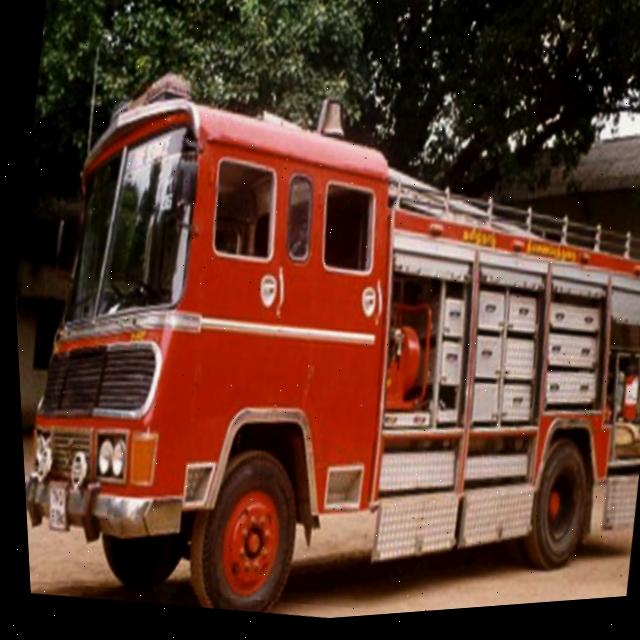Fire Truck: (3, 26, 640, 640)
